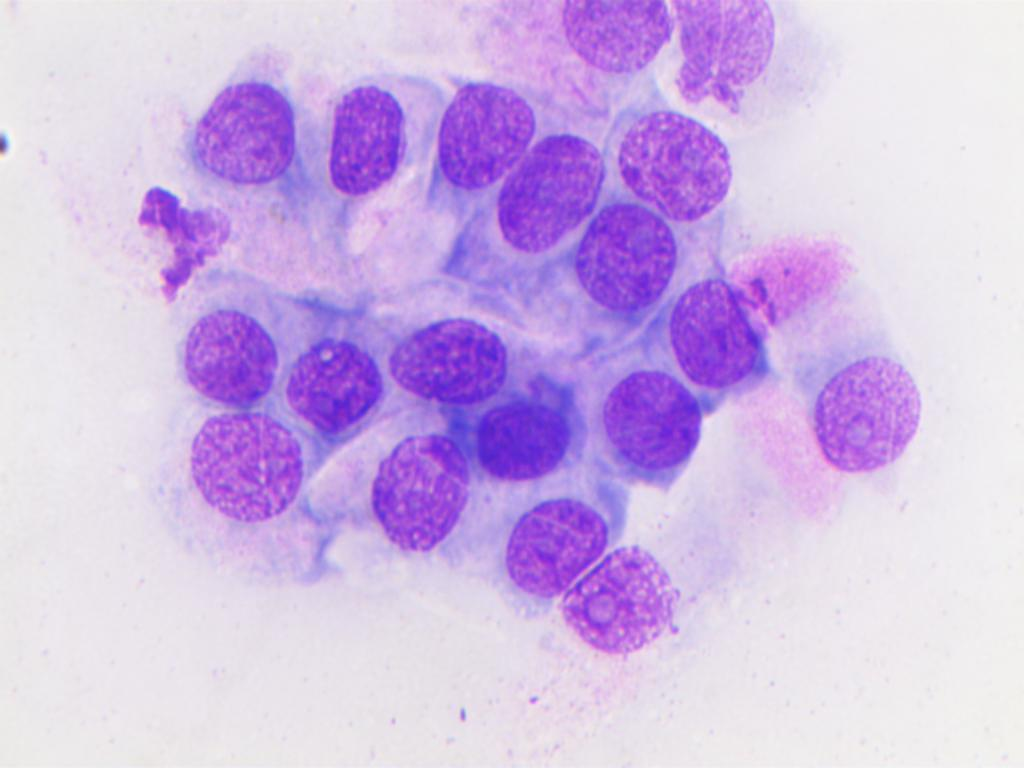artifact: (124, 186, 239, 304)
epithelial: (342, 413, 492, 582), (168, 56, 307, 230), (793, 333, 931, 489), (310, 61, 432, 226), (603, 98, 755, 218), (546, 538, 681, 673), (490, 117, 609, 264), (417, 67, 533, 216), (491, 487, 619, 608), (671, 0, 784, 133), (598, 367, 717, 491), (173, 409, 300, 525), (569, 198, 685, 319), (379, 309, 515, 406), (447, 393, 596, 480), (167, 303, 282, 408), (279, 330, 387, 432), (563, 0, 681, 77)
goblet_cell: (668, 227, 856, 384)
